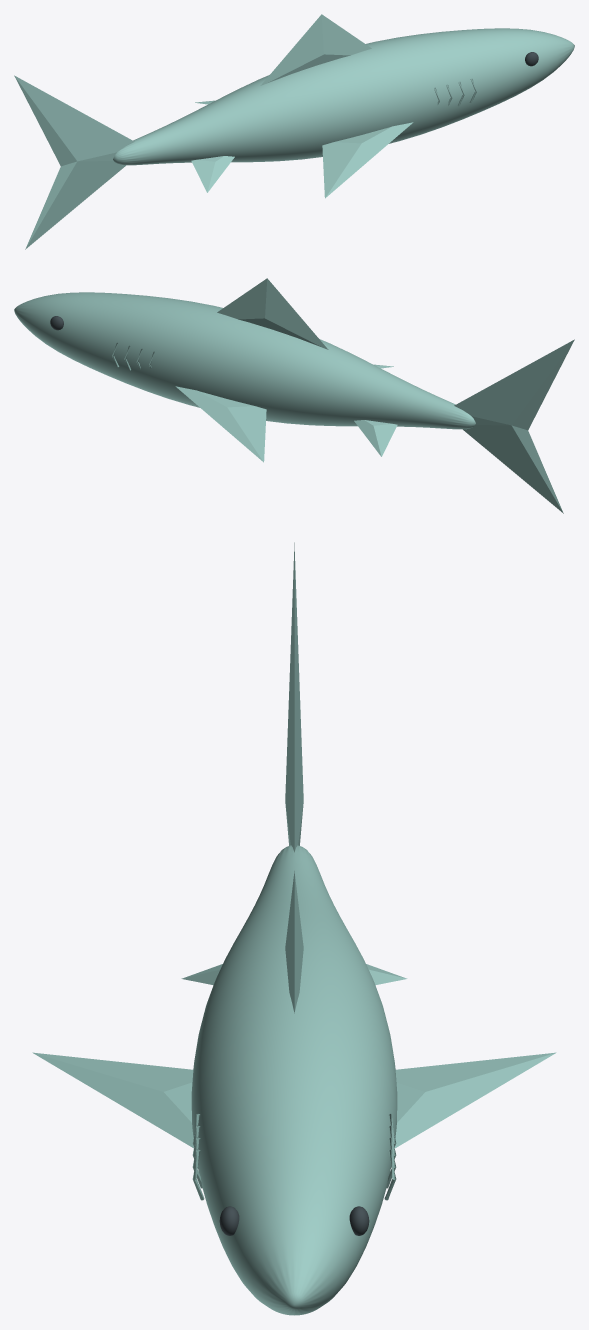
3 renders of one model, top to bottom at view 1: azimuth 30°, elevation 25°; view 2: azimuth 150°, elevation 25°; view 3: azimuth 270°, elevation 25°, orthographic. The views are drawn at different scales.
Parts seen in each view (by area): view 1: Body, Tail, Dorsal, Pectoral, Pelvic; view 2: Body, Tail, Dorsal, Pectoral.001, Pelvic.001; view 3: Body, Pectoral.001, Pectoral, Tail, Dorsal.
Boxes of the visible parts, x1,y1,x2,y2 form: Body: (113, 28, 574, 165); Tail: (14, 75, 134, 249); Dorsal: (260, 14, 371, 85); Pectoral: (322, 122, 413, 198); Pelvic: (191, 156, 234, 192); Body: (14, 292, 475, 429); Tail: (454, 339, 574, 513); Dorsal: (217, 278, 328, 349); Pectoral.001: (175, 386, 266, 462); Pelvic.001: (354, 420, 397, 456); Body: (191, 845, 397, 1315); Pectoral.001: (394, 1052, 556, 1148); Pectoral: (32, 1052, 193, 1148); Tail: (285, 542, 303, 852); Dorsal: (285, 871, 303, 1013).
Size of the model in its own units: 252 by 76 by 102.
